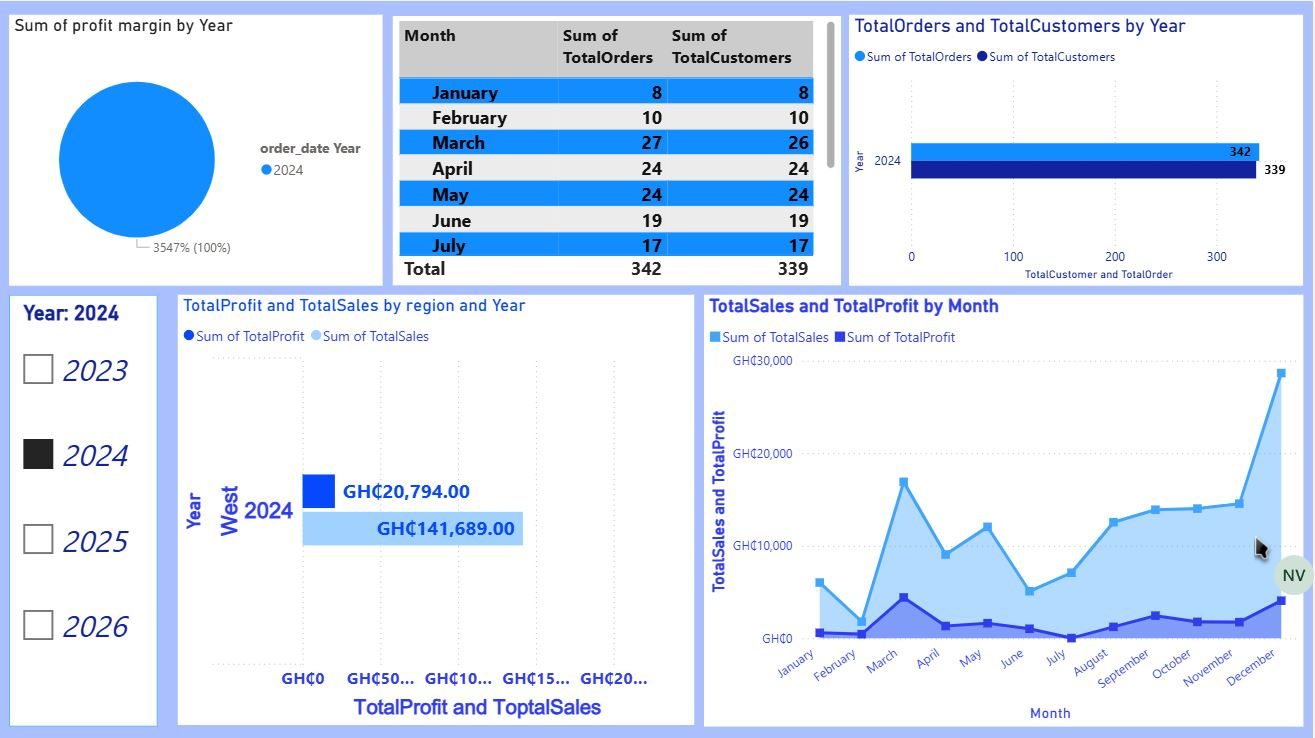

The dashboard page shown, as its layout file describes it:
{"tool":"powerbi","page":{"name":"Regional Summery Details","canvas":[1280,720],"ordinal":1},"visuals":[{"type":"clusteredBarChart","title":"TotalProfit and TotalSales by region and Year","fields":{"Category":["Yearly/Monthly trend.region","Yearly/Monthly trend.order_date.Variation.Date Hierarchy.Year"],"Y":["Sum(Yearly/Monthly trend.TotalProfit)","Sum(Yearly/Monthly trend.TotalSales)"]},"box":[174.4,286.6,502.9,419.1],"z":0},{"type":"actionButton","box":[1091.9,313,148.8,94],"z":1000},{"type":"areaChart","title":" TotalSales and TotalProfit by Month","fields":{"Category":["Yearly/Monthly trend.order_date.Variation.Date Hierarchy.Month"],"Y":["Sum(Yearly/Monthly trend.TotalSales)","Sum(Yearly/Monthly trend.TotalProfit)"]},"box":[686.8,286.6,584,420.4],"z":2000},{"type":"clusteredBarChart","title":"TotalOrders and  TotalCustomers by Year","fields":{"Category":["Yearly/Monthly trend.order_date.Variation.Date Hierarchy.Year"],"Y":["Sum(Yearly/Monthly trend.TotalOrders)","Sum(Yearly/Monthly trend.TotalCustomers)"]},"box":[828.7,13.5,442.1,263.6],"z":3000},{"type":"tableEx","fields":{"Values":["Yearly/Monthly trend.order_date.Variation.Date Hierarchy.Month","Sum(Yearly/Monthly trend.TotalOrders)","Sum(Yearly/Monthly trend.TotalCustomers)"]},"box":[383.2,14,436.5,262.5],"z":4000},{"type":"pieChart","fields":{"Category":["Yearly/Monthly trend.order_date.Variation.Date Hierarchy.Year"],"Y":["Sum(Yearly/Monthly trend.profit margin)"]},"box":[9.5,13.5,363.7,263.6],"z":5000},{"type":"slicer","fields":{"Values":["Yearly/Monthly trend.order_date.Variation.Date Hierarchy.Year"]},"box":[9.5,286.6,144.7,420.4],"z":6000}]}

Visuals, with their boxes in screenshot pixels (x1, y1, x2, y2), scaled from the page's 1280x720 canvas onto the 1315x738 screenshot:
"TotalProfit and TotalSales by region and Year" clusteredBarChart: 179, 294, 696, 723
actionButton: 1122, 321, 1275, 417
" TotalSales and TotalProfit by Month" areaChart: 706, 294, 1306, 725
"TotalOrders and  TotalCustomers by Year" clusteredBarChart: 851, 14, 1306, 284
tableEx - Yearly/Monthly trend.order_date.Variation.Date Hierarchy.Month x Sum(Yearly/Monthly trend.TotalOrders): 394, 14, 842, 283
pieChart - Yearly/Monthly trend.order_date.Variation.Date Hierarchy.Year x Sum(Yearly/Monthly trend.profit margin): 10, 14, 383, 284
slicer - Yearly/Monthly trend.order_date.Variation.Date Hierarchy.Year: 10, 294, 158, 725
